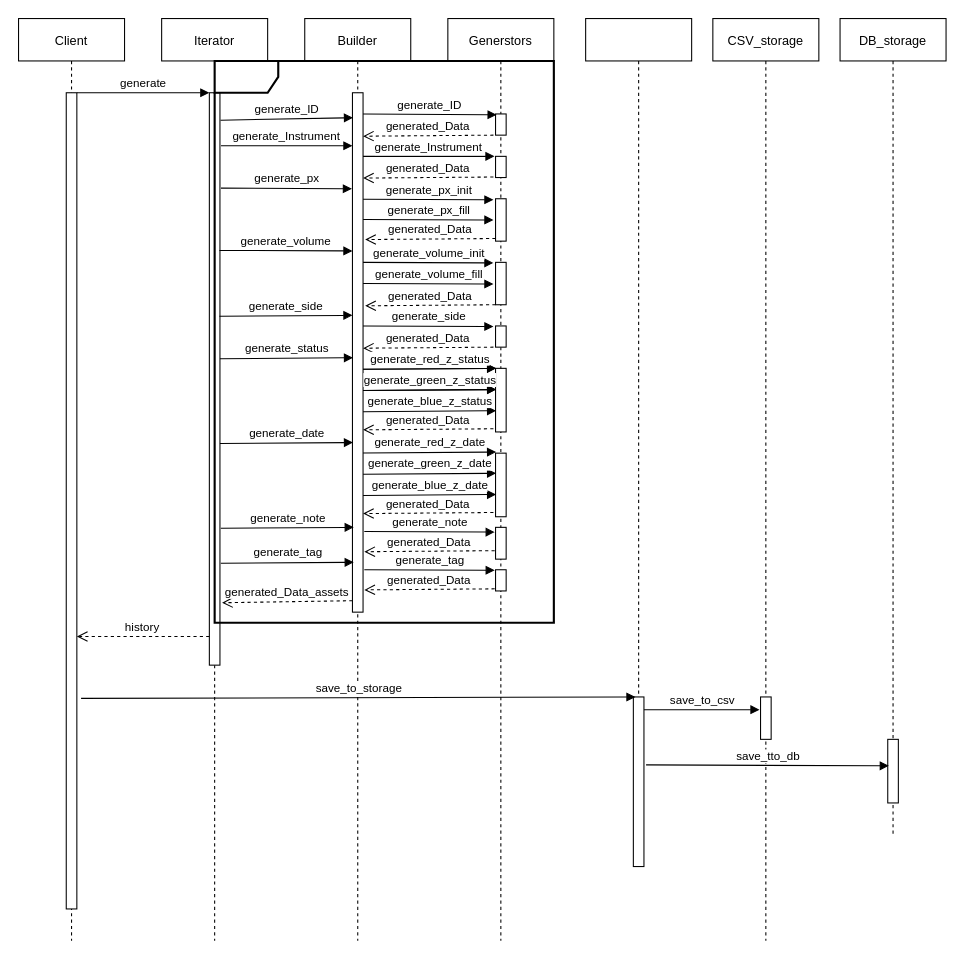
Some shapes in this 965 by 959 pixel diagram are drawn without their labels. The box of each missing label's shape, as (x1, y1, x2, y2) in pixels:
loop: (213, 59, 554, 623)
Storage: (585, 17, 692, 867)
